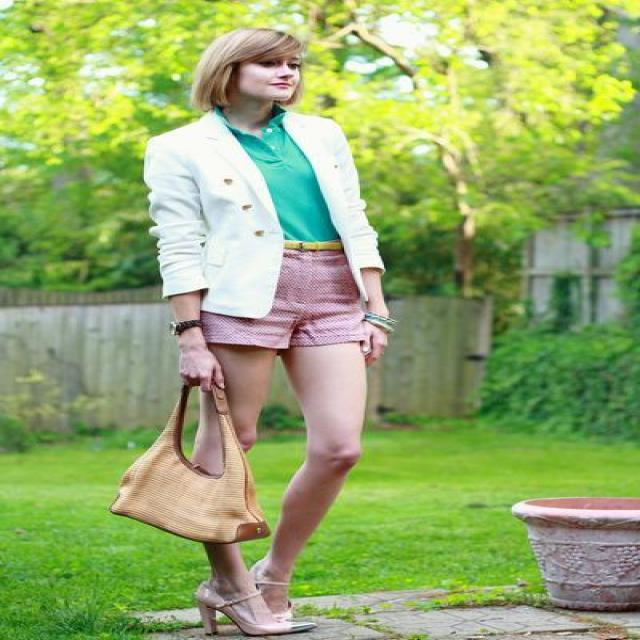bag: (112, 397, 283, 541)
jacket: (144, 110, 384, 317)
shirt: (225, 115, 338, 241)
shoe: (172, 602, 314, 636)
shorts: (208, 251, 392, 355)
